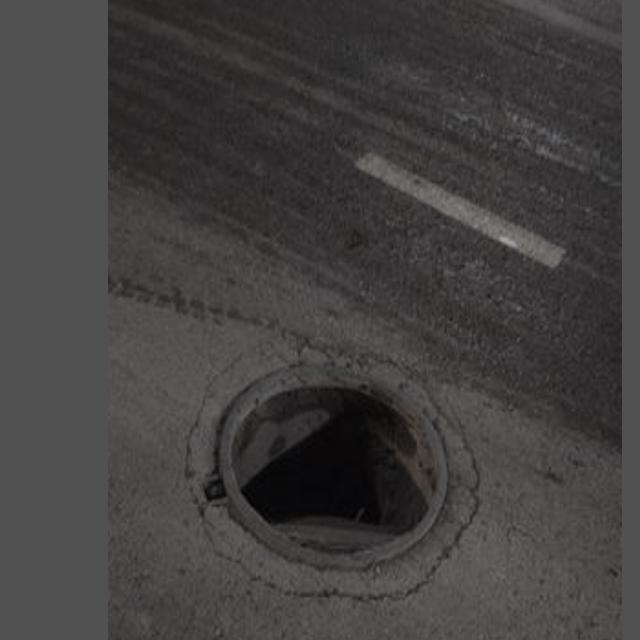lose: (181, 334, 495, 608)
